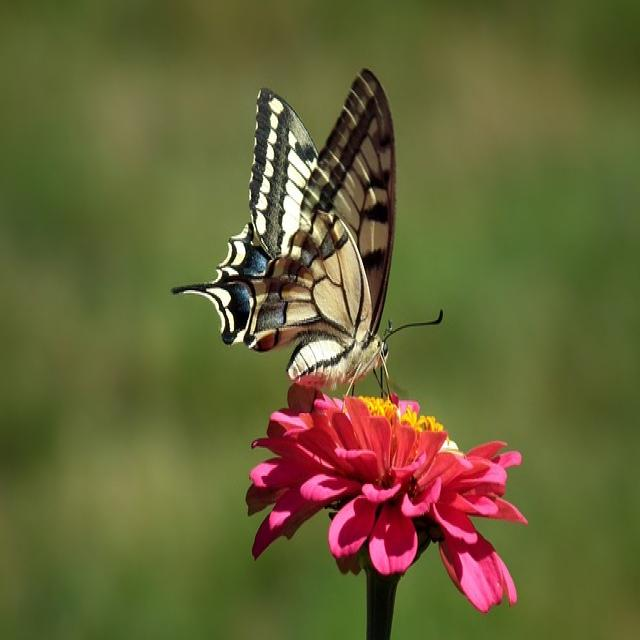butterfly: (171, 71, 425, 415)
